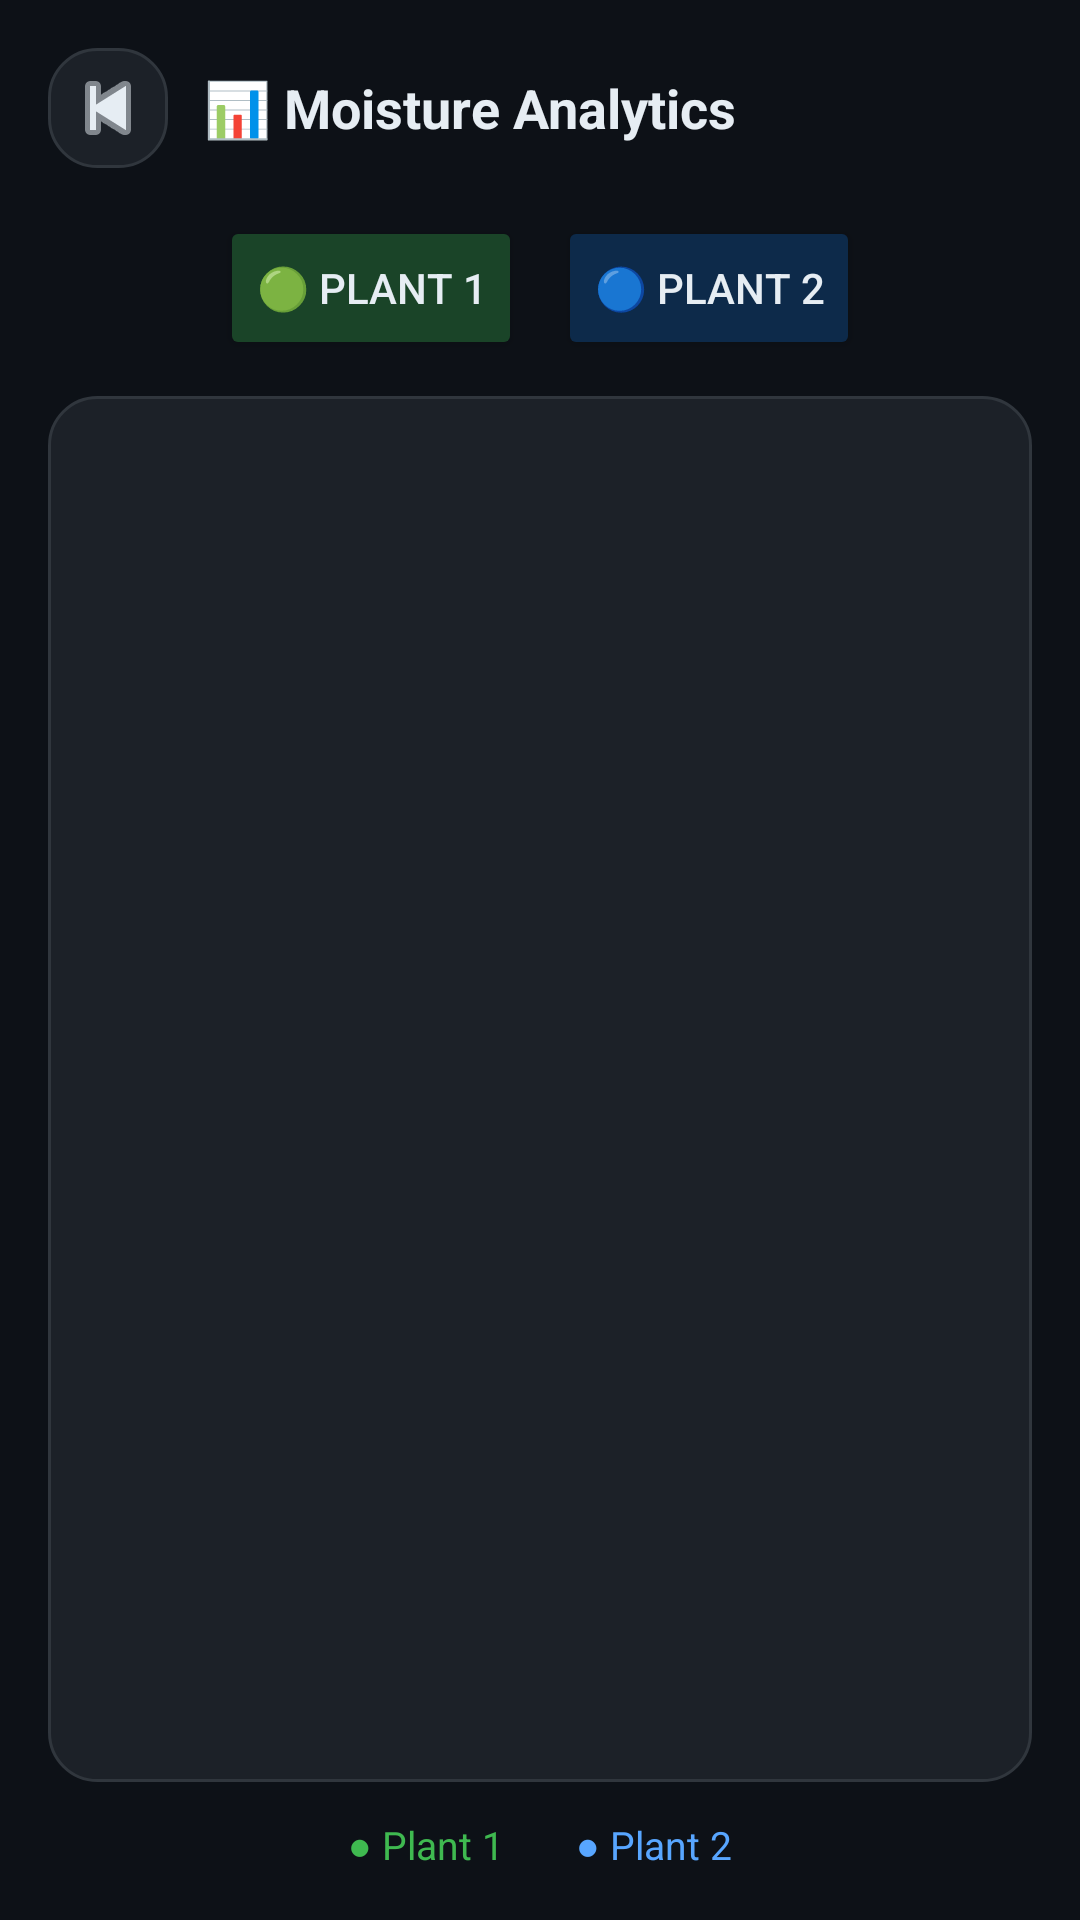

Point at icon controls on the screen. Image size 1080*1920, points as (x=x, y=y).
previous: (x=108, y=108)
